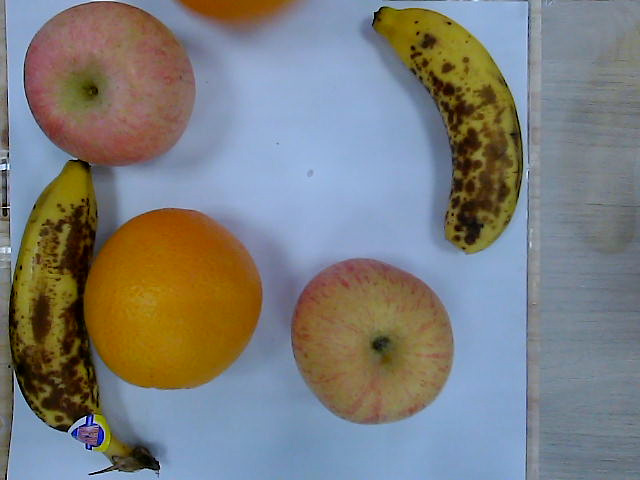fresh_apple: (25, 2, 195, 164), (292, 258, 454, 425)
fresh_orange: (82, 208, 263, 391)
rotten_banana: (8, 163, 161, 477), (373, 6, 527, 250)
